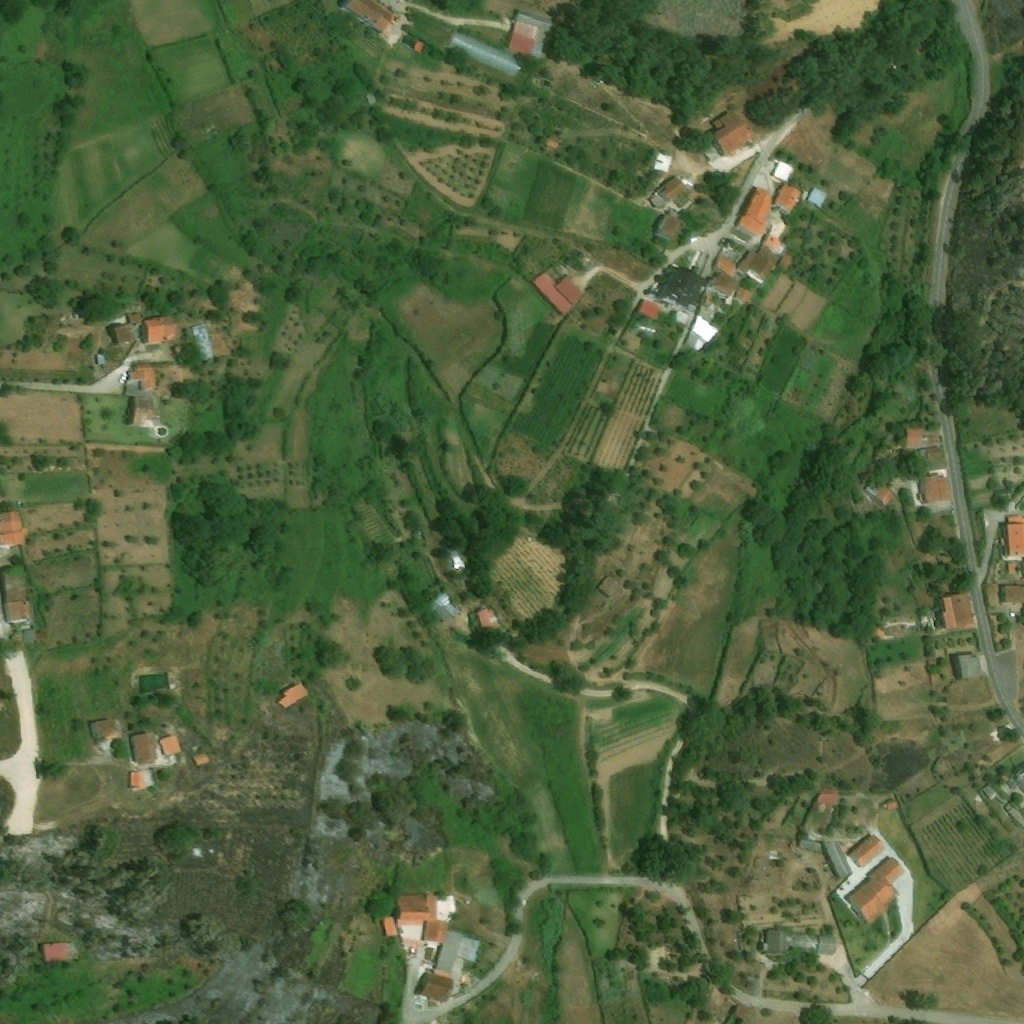0 no-damage: (447, 28, 532, 80), (845, 855, 907, 925), (652, 260, 709, 311), (398, 894, 455, 943), (796, 837, 857, 881), (709, 106, 758, 158), (531, 271, 587, 316), (759, 927, 837, 958), (509, 9, 555, 60), (342, 0, 401, 35), (735, 184, 775, 235), (436, 925, 478, 967), (982, 782, 1023, 825), (414, 967, 457, 1003), (648, 174, 692, 209), (0, 568, 29, 621), (650, 209, 690, 247), (847, 832, 887, 869), (940, 592, 977, 632), (683, 316, 721, 353), (739, 250, 777, 283), (143, 313, 182, 344), (918, 475, 954, 507), (190, 320, 216, 362), (774, 183, 805, 218), (126, 396, 161, 426), (864, 476, 896, 508), (0, 512, 29, 547), (913, 446, 948, 475), (277, 679, 310, 709), (129, 730, 157, 765), (127, 363, 158, 392), (89, 717, 122, 742), (807, 185, 835, 214), (430, 594, 458, 621), (954, 653, 983, 679), (598, 572, 625, 599), (759, 233, 782, 263), (42, 941, 72, 963), (447, 548, 470, 575), (697, 290, 716, 321), (773, 158, 797, 182), (651, 150, 675, 174), (638, 298, 663, 320), (159, 734, 182, 756), (714, 271, 737, 293), (477, 605, 498, 629), (110, 323, 135, 343), (730, 1002, 753, 1022), (716, 255, 738, 275), (130, 770, 153, 789), (904, 427, 924, 447), (736, 284, 756, 302), (816, 790, 839, 805), (383, 916, 398, 937), (193, 751, 212, 767), (414, 38, 430, 55), (676, 310, 691, 324), (780, 254, 794, 268), (23, 630, 36, 640), (95, 354, 107, 364), (174, 345, 186, 355), (130, 314, 140, 323), (888, 802, 898, 810)
4 un-classified: (1003, 523, 1023, 561), (999, 585, 1023, 603)
